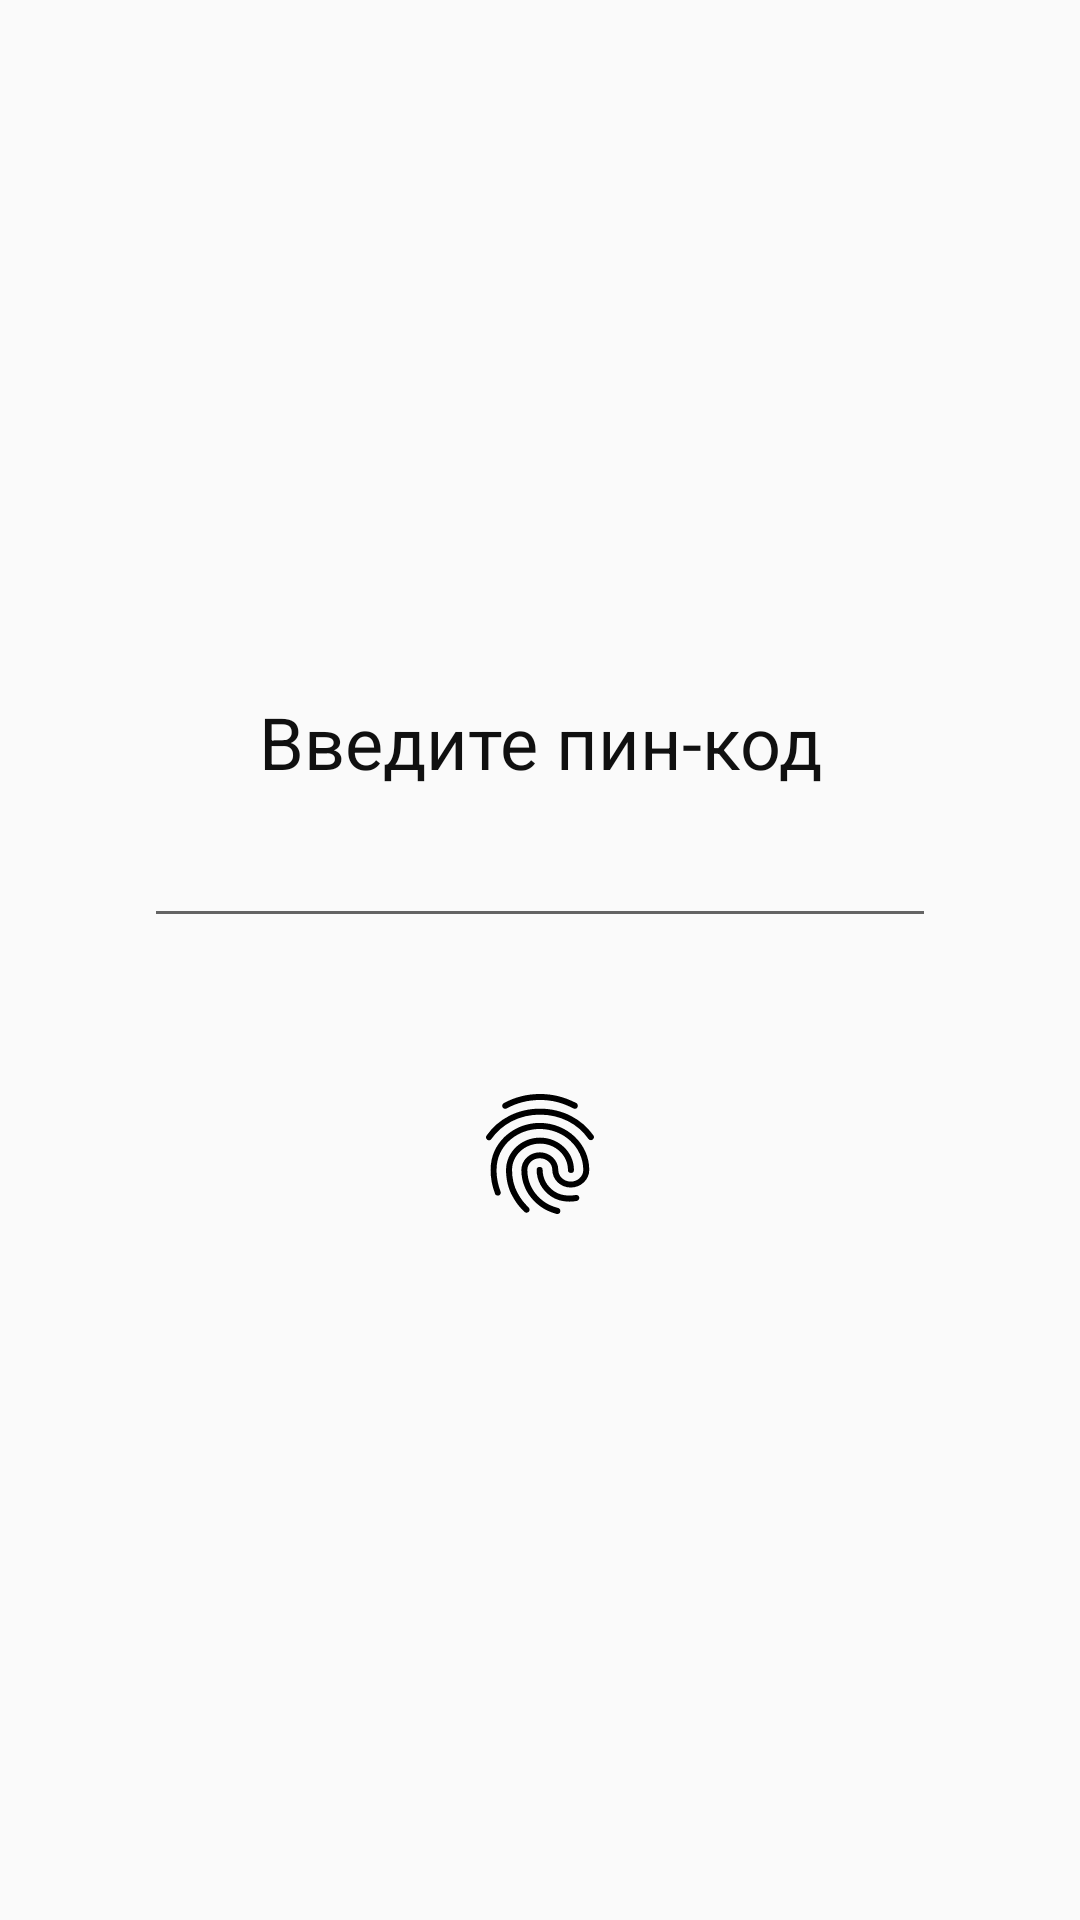

Named icons in this screenshot (1080w x 1920h) and their bounding boxes, (x1, y1, x2, y2):
fingerprint: (486, 1094, 594, 1214)
